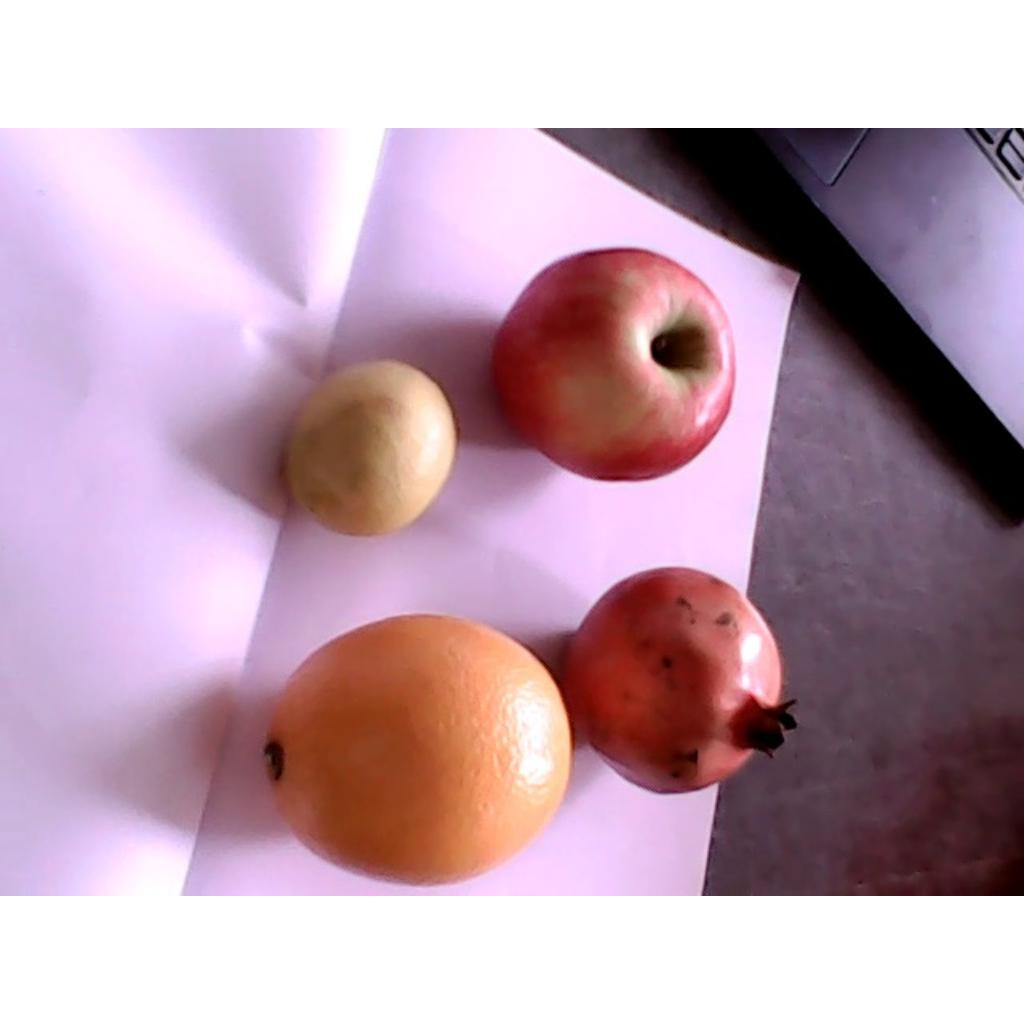apple: (489, 247, 737, 482)
lemon: (283, 355, 458, 540)
orange: (262, 614, 571, 886)
pomegranate: (563, 568, 795, 798)
